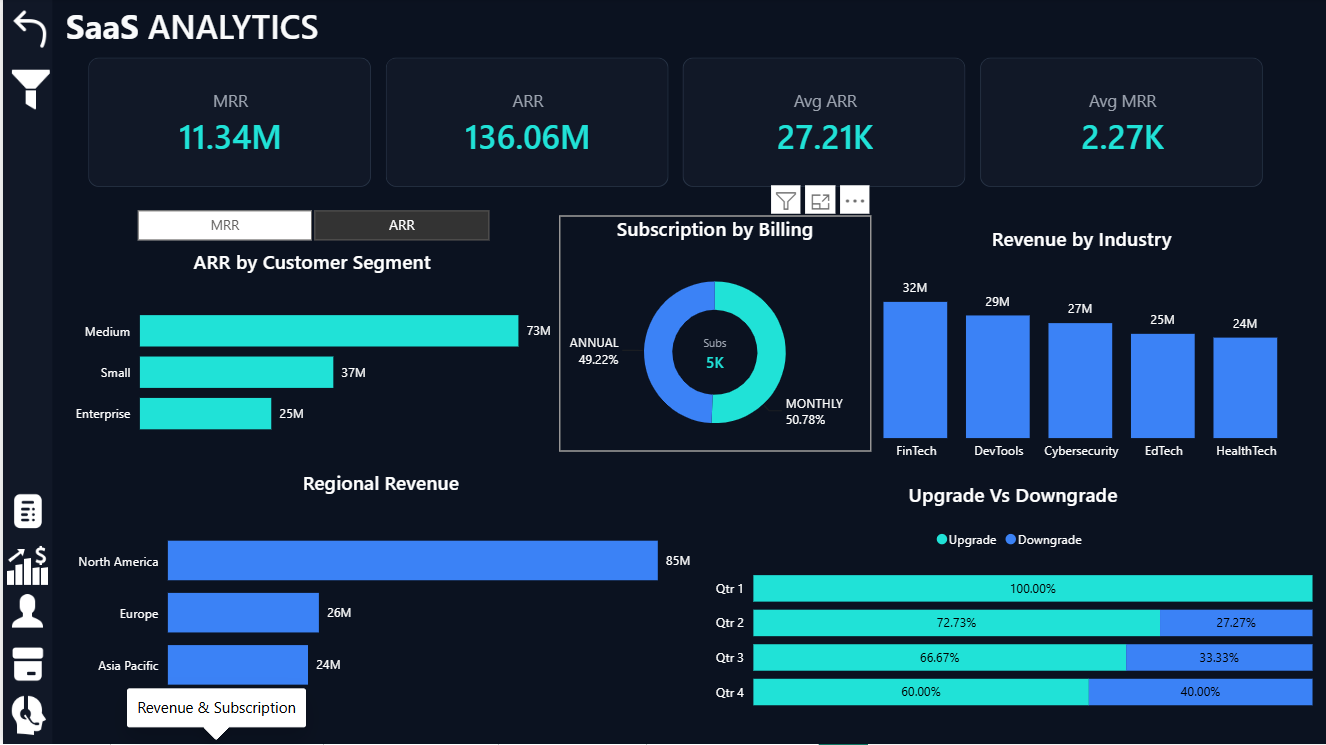

The page's visual inventory and layout, read from the dashboard file:
{"tool":"powerbi","page":{"name":"Revenue & Subscription","canvas":[1280,720],"ordinal":1},"visuals":[{"type":"cardVisual","fields":{"Data":["gold fact_subscriptions.MRR","gold fact_subscriptions.ARR","gold fact_subscriptions.Avg ARR","gold fact_feature_usage.Avg MRR"]},"box":[47.6,41.8,1207.6,155.8],"z":0},{"type":"donutChart","title":"Subscription by Billing","fields":{"Category":["gold dim_subscriptions.billing_frequency"],"Y":["gold dim_subscriptions.Total Subscription"]},"box":[536.4,210.2,300.8,228.3],"z":0,"group":"g1"},{"type":"image","box":[0,520.8,47.6,51.9],"z":0,"group":"g2"},{"type":"textbox","box":[47.6,0,346.3,59.2],"z":1000},{"type":"cardVisual","fields":{"Data":["gold dim_subscriptions.Total Subscription"]},"box":[622.4,310.9,129.8,67.8],"z":1000,"group":"g1"},{"type":"image","box":[0,572.8,47.6,37.5],"z":1000,"group":"g2"},{"type":"shape","box":[0,0,47.6,719.9],"z":2000},{"type":"image","box":[0,618.9,47.6,47.6],"z":2000,"group":"g2"},{"type":"barChart","fields":{"Y":["gold fact_subscriptions.ARR"],"Category":["gold dim_accounts.customer_segment"]},"box":[60.6,240.9,476.1,197.7],"z":3000},{"type":"image","box":[0,670,47.6,42],"z":3000,"group":"g2"},{"type":"columnChart","title":"Revenue by Industry","fields":{"Y":["gold fact_subscriptions.ARR"],"Category":["gold dim_accounts.industry"]},"box":[813.7,219.3,455.9,235.2],"z":4000},{"type":"image","box":[0,468.9,47.6,51.9],"z":4000,"group":"g2"},{"type":"barChart","title":"Regional Revenue","fields":{"Category":["gold dim_accounts.region"],"Y":["gold fact_subscriptions.ARR"]},"box":[60.6,454.5,608.8,235.2],"z":5000},{"type":"hundredPercentStackedBarChart","title":"Upgrade Vs Downgrade","fields":{"Category":["gold fact_subscriptions.end_date.Variation.Date Hierarchy.Year","gold fact_subscriptions.end_date.Variation.Date Hierarchy.Quarter","gold fact_subscriptions.end_date.Variation.Date Hierarchy.Month","gold fact_subscriptions.end_date.Variation.Date Hierarchy.Day"],"Y":["gold fact_subscriptions.Upgrade Count","gold fact_subscriptions.Downgrade Count"]},"box":[681,467.5,588.6,235.2],"z":6000},{"type":"image","title":"Filter Button","box":[5.4,59.8,41.7,56.2],"z":7000},{"type":"image","title":"Filter Button","box":[5.8,2.9,41.8,56.3],"z":7500},{"type":"slicer","fields":{"Values":["Revenue Trend.Revenue Trend"]},"box":[103.9,197.7,389.5,43.3],"z":7750},{"type":"group","id":"g1","title":"Donut Chart","box":[536.4,210.2,300.8,228.3],"z":10000},{"type":"group","id":"g2","title":"Page Nav Icon","box":[0,468.9,47.6,243.1],"z":12000}]}

Visuals, with their boxes on the page's 1280x720 design canvas (x1, y1, x2, y2). These are canvas units, not pixel positions in the 1326x745 screenshot, which may show the page scaled, cropped or inside an application window:
cardVisual - gold fact_subscriptions.MRR x gold fact_subscriptions.ARR: region(48, 42, 1255, 198)
"Subscription by Billing" donutChart: region(536, 210, 837, 438)
image: region(0, 521, 48, 573)
textbox: region(48, 0, 394, 59)
cardVisual - gold dim_subscriptions.Total Subscription: region(622, 311, 752, 379)
image: region(0, 573, 48, 610)
shape: region(0, 0, 48, 720)
image: region(0, 619, 48, 666)
barChart - gold fact_subscriptions.ARR x gold dim_accounts.customer_segment: region(61, 241, 537, 439)
image: region(0, 670, 48, 712)
"Revenue by Industry" columnChart: region(814, 219, 1270, 454)
image: region(0, 469, 48, 521)
"Regional Revenue" barChart: region(61, 454, 669, 690)
"Upgrade Vs Downgrade" hundredPercentStackedBarChart: region(681, 468, 1270, 703)
"Filter Button" image: region(5, 60, 47, 116)
"Filter Button" image: region(6, 3, 48, 59)
slicer - Revenue Trend.Revenue Trend: region(104, 198, 493, 241)
"Donut Chart" group: region(536, 210, 837, 438)
"Page Nav Icon" group: region(0, 469, 48, 712)
